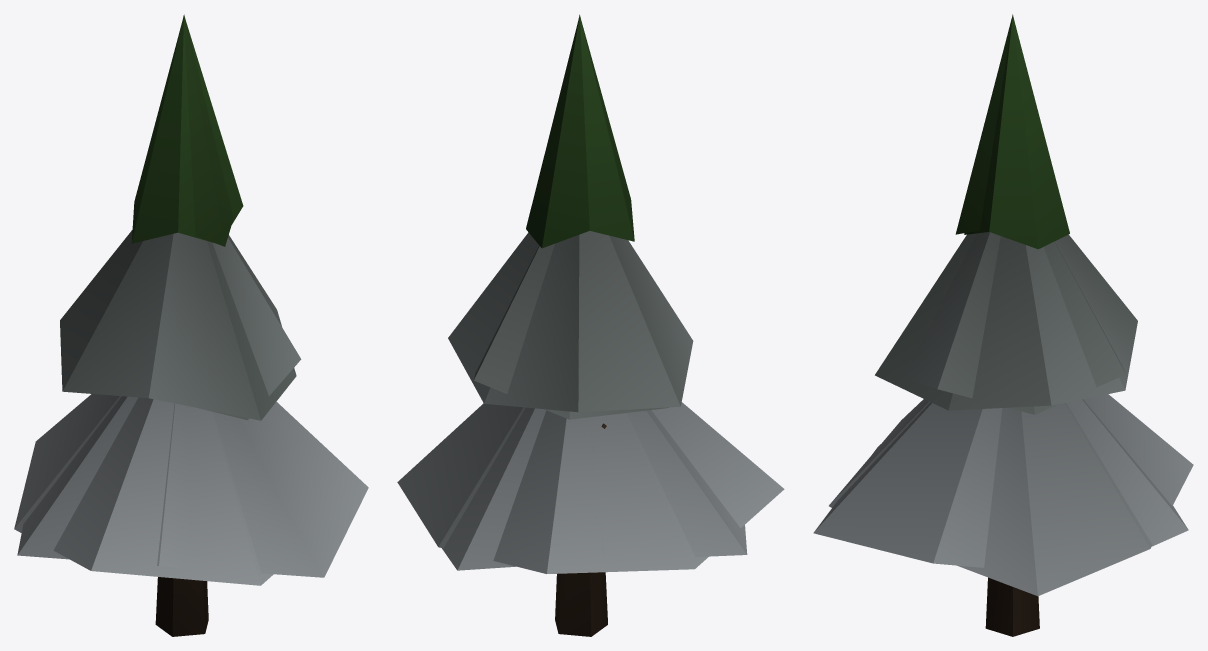
File: trees_frost_lod1.glb
The picture shows the model from 3 angles, left to right: view 1: azimuth 30°, elevation 25°; view 2: azimuth 150°, elevation 25°; view 3: azimuth 270°, elevation 25°; orthographic projection.
Visible parts, largest first — view 1: v0, v1; view 2: v0, v1; view 3: v0, v1.
Boxes of the visible parts, left/top/right/bottom form: v0: left=17, top=20, right=368, bottom=636; v1: left=14, top=14, right=301, bottom=585; v0: left=442, top=20, right=747, bottom=636; v1: left=397, top=14, right=784, bottom=573; v0: left=813, top=20, right=1188, bottom=636; v1: left=829, top=14, right=1193, bottom=596.
Bounding box in the file's own units: 0.8855 × 1.54 × 0.8675.
